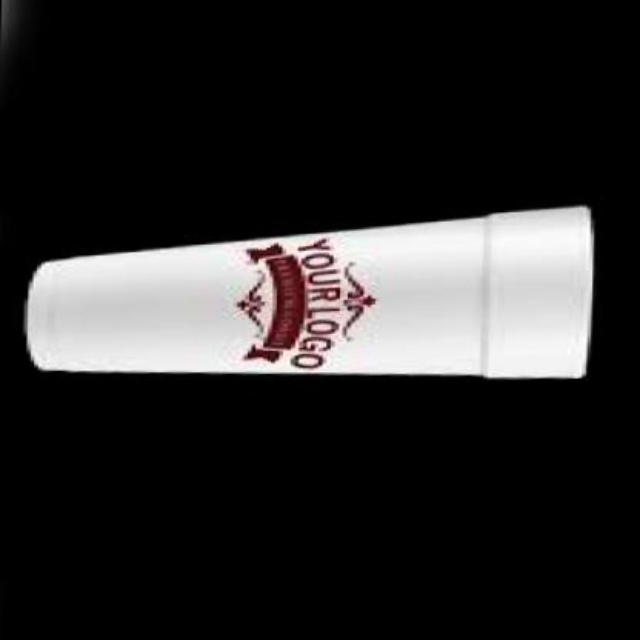trash: (26, 206, 591, 377)
